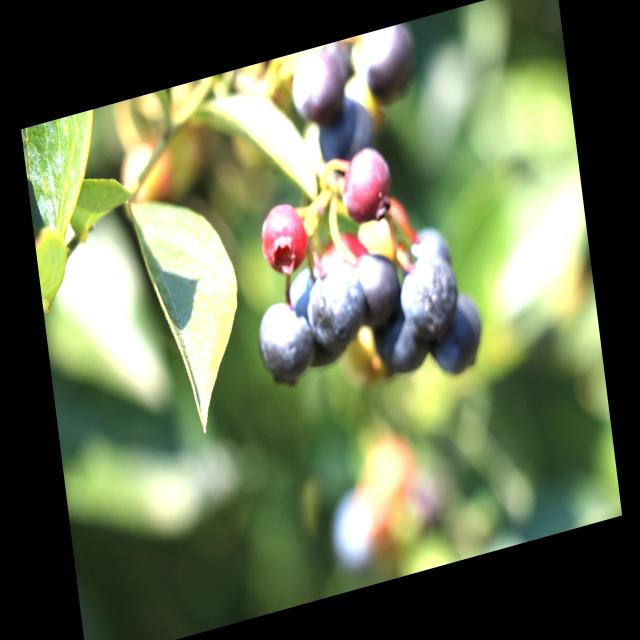blueberry: (274, 256, 351, 380), (392, 244, 467, 358), (250, 288, 324, 402), (298, 252, 369, 360), (420, 281, 489, 388), (352, 19, 424, 118), (310, 84, 382, 183), (284, 42, 351, 136), (368, 302, 431, 390), (351, 243, 409, 338), (402, 216, 458, 284)
blueberry-halfripe: (338, 146, 396, 236), (257, 198, 312, 280)
